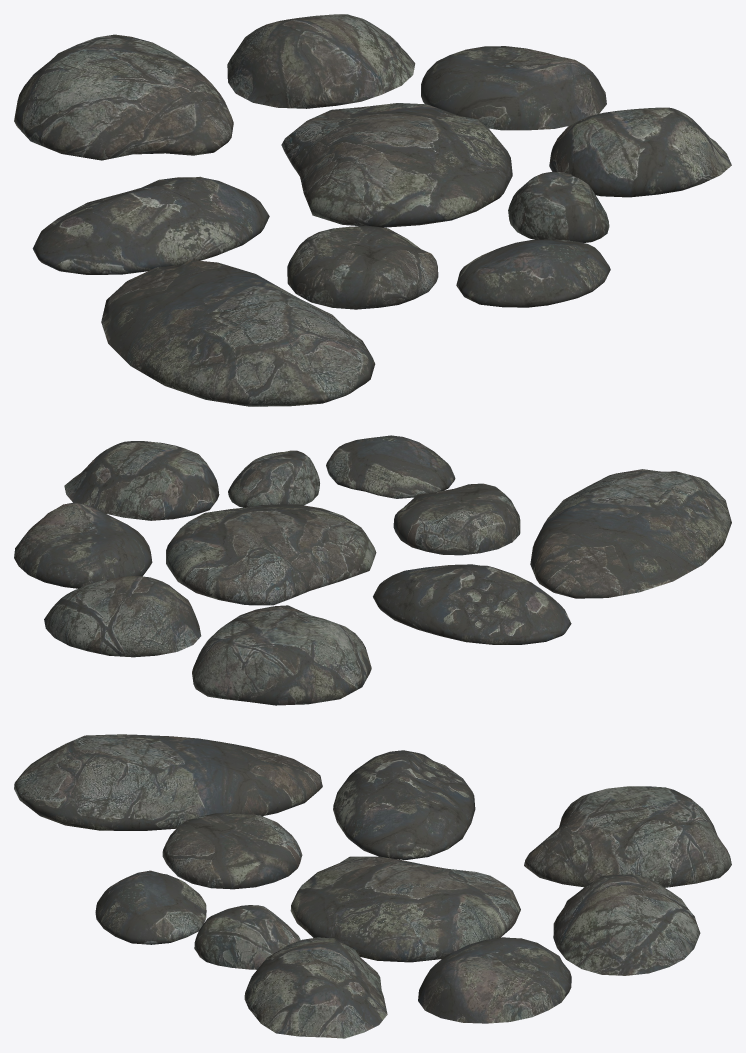
File: ground_pebbles.glb
3 views of the same model, one above another, from view 1: azimuth 30°, elevation 25°; view 2: azimuth 150°, elevation 25°; view 3: azimuth 270°, elevation 25° (orthographic). The views are drawn at different scales.
Parts seen in each view (by area): view 1: SM_GroundPebbles_01; view 2: SM_GroundPebbles_01; view 3: SM_GroundPebbles_01.
Boxes of the visible parts, x1,y1,x2,y2 form: SM_GroundPebbles_01: (14,14,731,406); SM_GroundPebbles_01: (14,435,731,705); SM_GroundPebbles_01: (14,734,731,1038).
Size of the model in its own units: 1.91 by 0.1599 by 2.
1 material, 1 textured.
